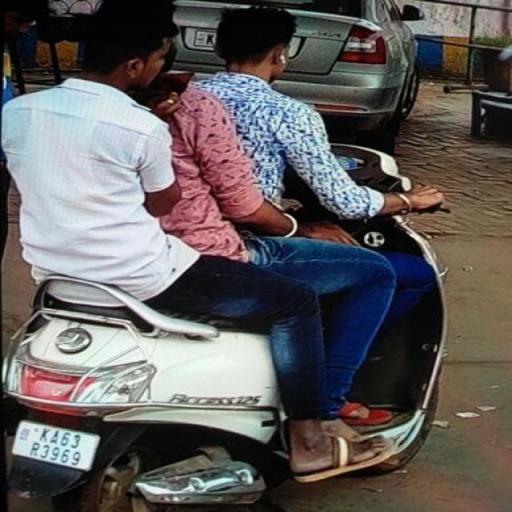tripple riding: (0, 0, 450, 292)
